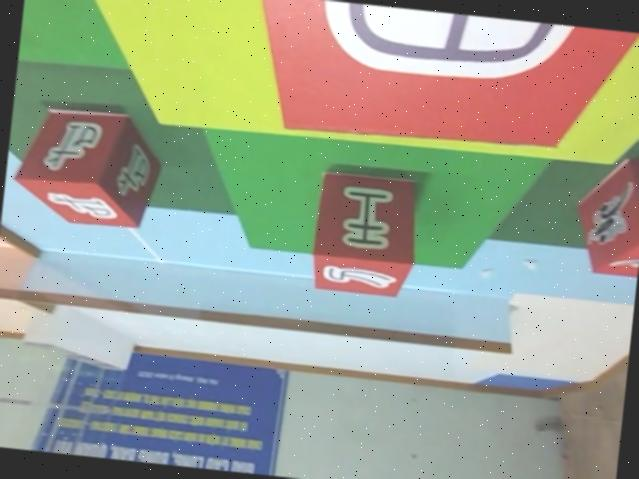R1: (566, 148, 639, 280)
R2 Fake: (238, 0, 639, 171), (305, 165, 426, 305)
R2 Real: (6, 100, 169, 233)
